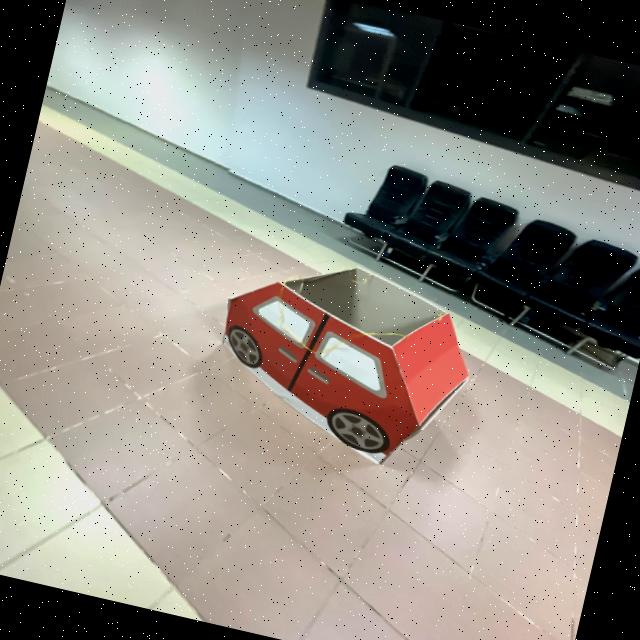red_car: (177, 225, 503, 487)
